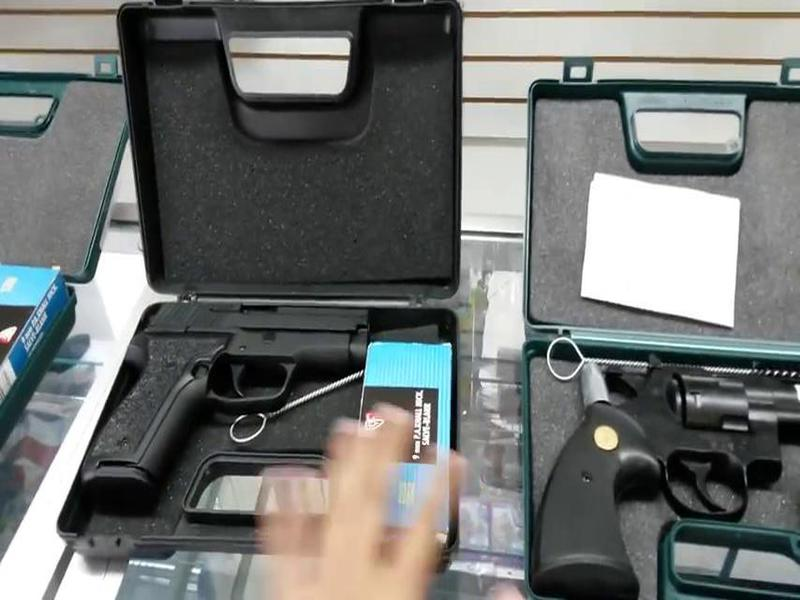Pistola: (70, 290, 382, 512)
Revolver: (524, 338, 800, 595)
